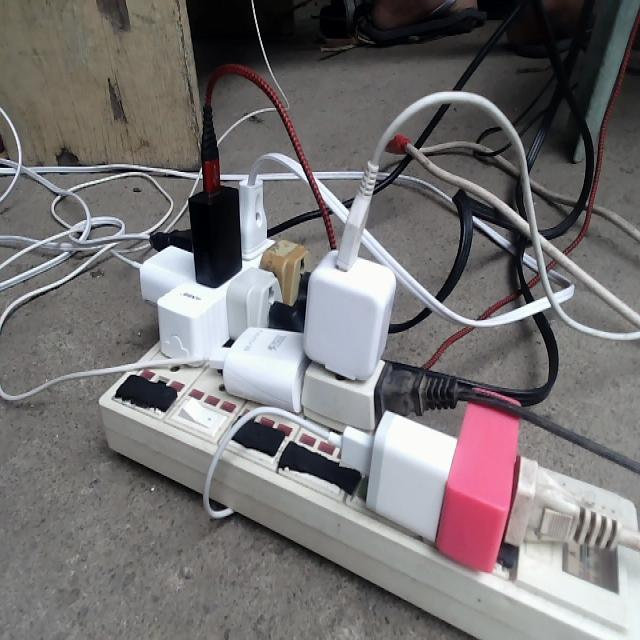-: (97, 147, 639, 629)
